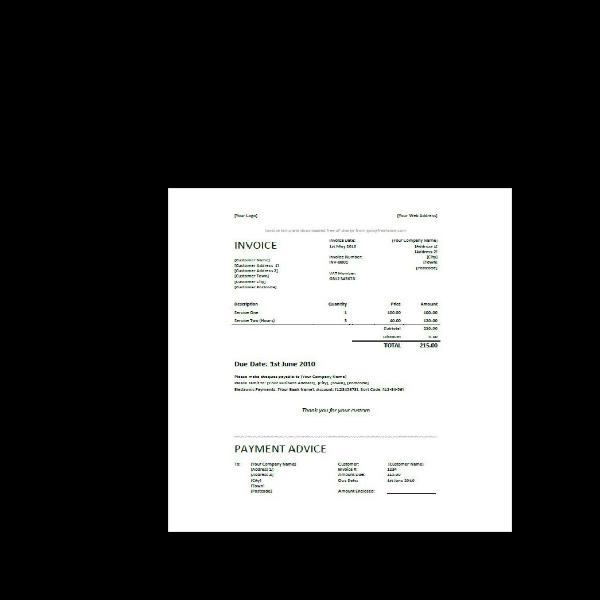test: (169, 189, 510, 530)
